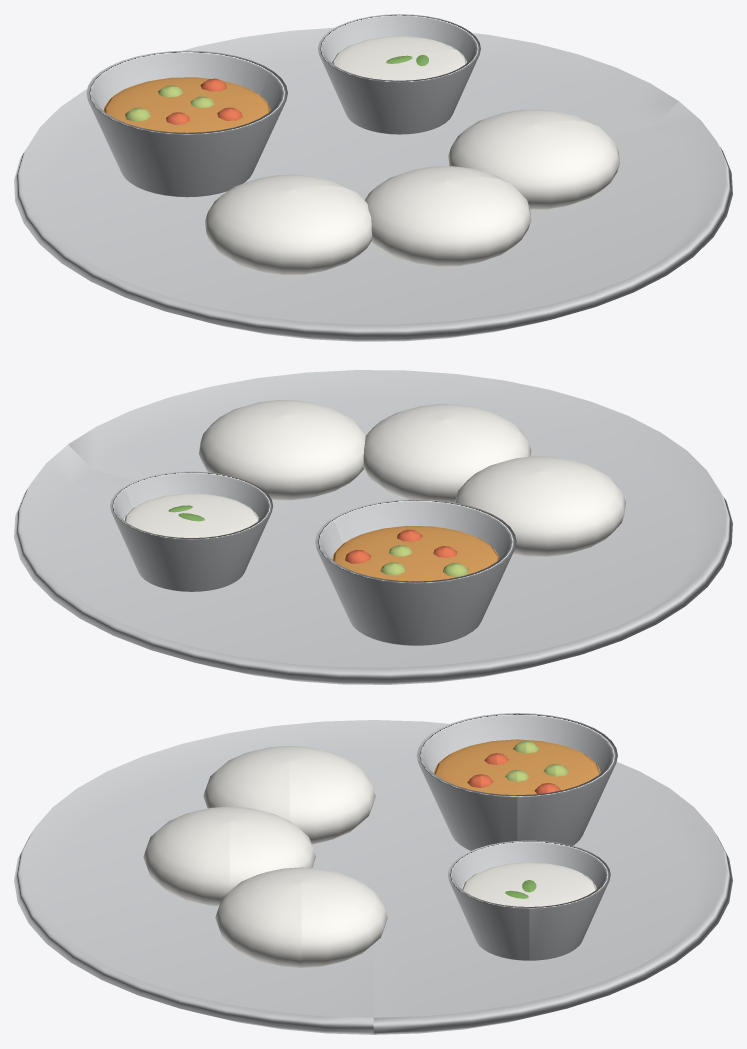
File: idli-sambar.glb
The picture shows the model from 3 angles, top to bottom: view 1: azimuth 30°, elevation 25°; view 2: azimuth 150°, elevation 25°; view 3: azimuth 270°, elevation 25°; orthographic projection.
Visible parts, largest first — view 1: idli-sambar; view 2: idli-sambar; view 3: idli-sambar.
Boxes of the visible parts, x1,y1,x2,y2 form: idli-sambar: [14, 14, 732, 341]; idli-sambar: [14, 370, 732, 684]; idli-sambar: [14, 713, 732, 1034].
Bounding box in the file's own units: 0.3 × 0.04 × 0.3.
